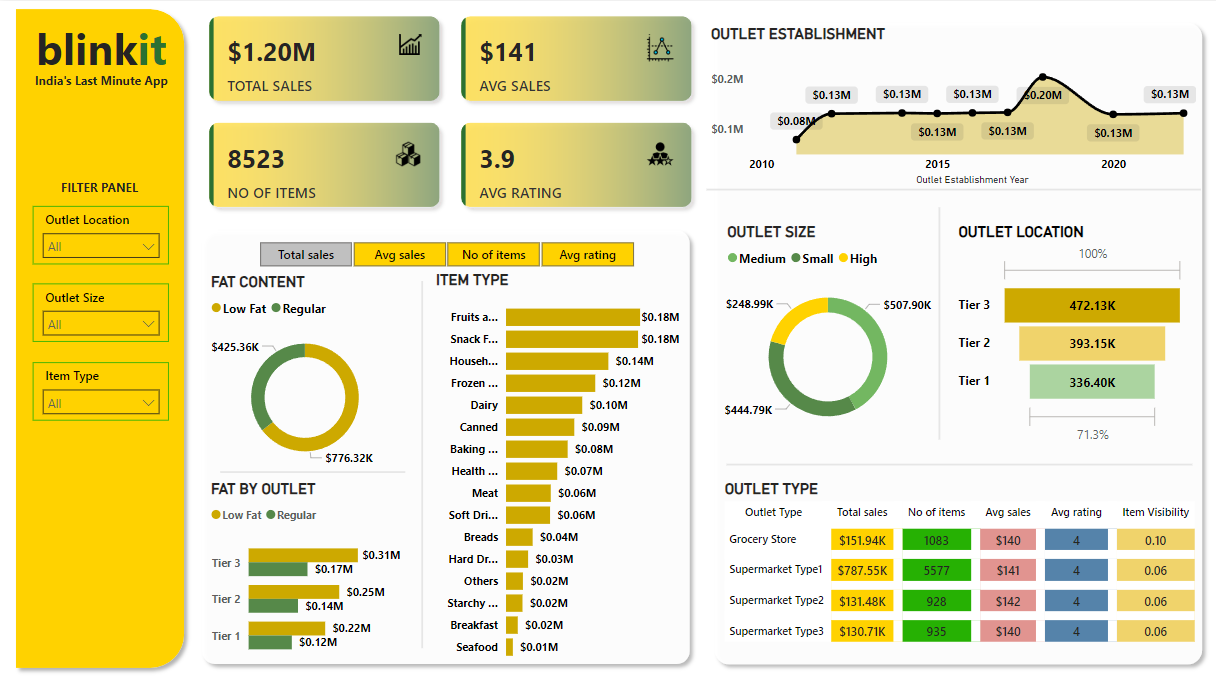

This screenshot's page, from the dashboard's own definition file:
{"tool":"powerbi","page":{"name":"Page 1","canvas":[1400,800],"ordinal":0},"visuals":[{"type":"shape","box":[10,0,205,750],"z":0},{"type":"textbox","box":[28.6,13.6,169.1,77.7],"z":1000},{"type":"textbox","box":[21.8,73.6,182.7,34.1],"z":2000},{"type":"cardVisual","fields":{"Data":["BlinkIT Grocery Data.Total sales","BlinkIT Grocery Data.Avg sales","BlinkIT Grocery Data.No of items","BlinkIT Grocery Data.Avg rating"]},"box":[216.1,0,570.3,246.1],"z":3000},{"type":"shape","box":[216.1,246.1,559.8,499.8],"z":4000},{"type":"donutChart","title":"FAT CONTENT","fields":{"Y":["BlinkIT Grocery Data.Total sales"],"Category":["BlinkIT Grocery Data.Item Fat Content"]},"box":[231.1,301.7,219.1,229.6],"z":5000},{"type":"slicer","fields":{"Values":["Metrics.Metrics"]},"box":[264.2,261.2,465.3,40.5],"z":6000},{"type":"clusteredBarChart","title":"FAT BY OUTLET","fields":{"Y":["BlinkIT Grocery Data.Total sales"],"Category":["BlinkIT Grocery Data.Outlet Location Type"],"Series":["BlinkIT Grocery Data.Item Fat Content"]},"box":[231.1,531.3,220.6,211.6],"z":7000},{"type":"shape","box":[246.1,489.3,205.6,69],"z":8000},{"type":"shape","box":[459.3,310.7,21,408.2],"z":9000},{"type":"barChart","title":"ITEM TYPE","fields":{"Y":["BlinkIT Grocery Data.Total sales"],"Category":["BlinkIT Grocery Data.Item Type"]},"box":[480.3,300.2,280.7,442.8],"z":10000},{"type":"shape","box":[786.5,15,559.8,730.9],"z":11000},{"type":"lineChart","title":"OUTLET ESTABLISHMENT","fields":{"Y":["BlinkIT Grocery Data.Total sales"],"Category":["BlinkIT Grocery Data.Outlet Establishment Year"]},"box":[786.5,27,549.3,183.1],"z":12000},{"type":"shape","box":[786.5,175.6,549.3,69],"z":13000},{"type":"donutChart","title":"OUTLET SIZE","fields":{"Y":["BlinkIT Grocery Data.Total sales"],"Category":["BlinkIT Grocery Data.Outlet Size"]},"box":[804.5,246.1,234.1,250.6],"z":14000},{"type":"shape","box":[1038.6,229.6,12,258.1],"z":15000},{"type":"funnel","title":"OUTLET LOCATION","fields":{"Y":["Sum(BlinkIT Grocery Data.Sales)"],"Category":["BlinkIT Grocery Data.Outlet Location Type"]},"box":[1061.1,246.1,261.2,250.6],"z":16000},{"type":"shape","box":[809,480.3,517.8,69],"z":17000},{"type":"pivotTable","title":"OUTLET TYPE","fields":{"Rows":["BlinkIT Grocery Data.Outlet Type"],"Values":["BlinkIT Grocery Data.Total sales","BlinkIT Grocery Data.No of items","BlinkIT Grocery Data.Avg sales","BlinkIT Grocery Data.Avg rating","Avg(BlinkIT Grocery Data.Item Visibility)"]},"box":[801.5,531.3,534.3,222.1],"z":18000},{"type":"slicer","fields":{"Values":["BlinkIT Grocery Data.Outlet Location Type"]},"box":[37.5,228.1,151.6,64.5],"z":19000},{"type":"slicer","fields":{"Values":["BlinkIT Grocery Data.Outlet Size"]},"box":[37.5,313.7,151.6,64.5],"z":20000},{"type":"slicer","fields":{"Values":["BlinkIT Grocery Data.Item Type"]},"box":[37.5,400.7,151.6,64.5],"z":21000},{"type":"textbox","box":[64.5,193.6,97.6,36],"z":21001}]}

Visuals, with their boxes in screenshot pixels (x1, y1, x2, y2), scaled from the page's 1400x800 canvas onto the 1216x683 screenshot:
shape: (left=9, top=0, right=187, bottom=640)
textbox: (left=25, top=12, right=172, bottom=78)
textbox: (left=19, top=63, right=178, bottom=92)
cardVisual - BlinkIT Grocery Data.Total sales x BlinkIT Grocery Data.Avg sales: (left=188, top=0, right=683, bottom=210)
shape: (left=188, top=210, right=674, bottom=637)
"FAT CONTENT" donutChart: (left=201, top=258, right=391, bottom=454)
slicer - Metrics.Metrics: (left=229, top=223, right=634, bottom=258)
"FAT BY OUTLET" clusteredBarChart: (left=201, top=454, right=392, bottom=634)
shape: (left=214, top=418, right=392, bottom=477)
shape: (left=399, top=265, right=417, bottom=614)
"ITEM TYPE" barChart: (left=417, top=256, right=661, bottom=634)
shape: (left=683, top=13, right=1169, bottom=637)
"OUTLET ESTABLISHMENT" lineChart: (left=683, top=23, right=1160, bottom=179)
shape: (left=683, top=150, right=1160, bottom=209)
"OUTLET SIZE" donutChart: (left=699, top=210, right=902, bottom=424)
shape: (left=902, top=196, right=913, bottom=416)
"OUTLET LOCATION" funnel: (left=922, top=210, right=1149, bottom=424)
shape: (left=703, top=410, right=1152, bottom=469)
"OUTLET TYPE" pivotTable: (left=696, top=454, right=1160, bottom=643)
slicer - BlinkIT Grocery Data.Outlet Location Type: (left=33, top=195, right=164, bottom=250)
slicer - BlinkIT Grocery Data.Outlet Size: (left=33, top=268, right=164, bottom=323)
slicer - BlinkIT Grocery Data.Item Type: (left=33, top=342, right=164, bottom=397)
textbox: (left=56, top=165, right=141, bottom=196)
